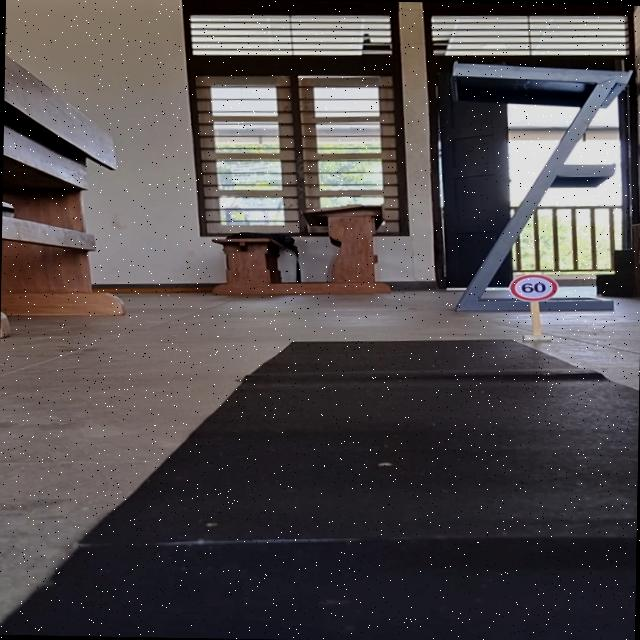Speed60: (505, 272, 560, 303)
